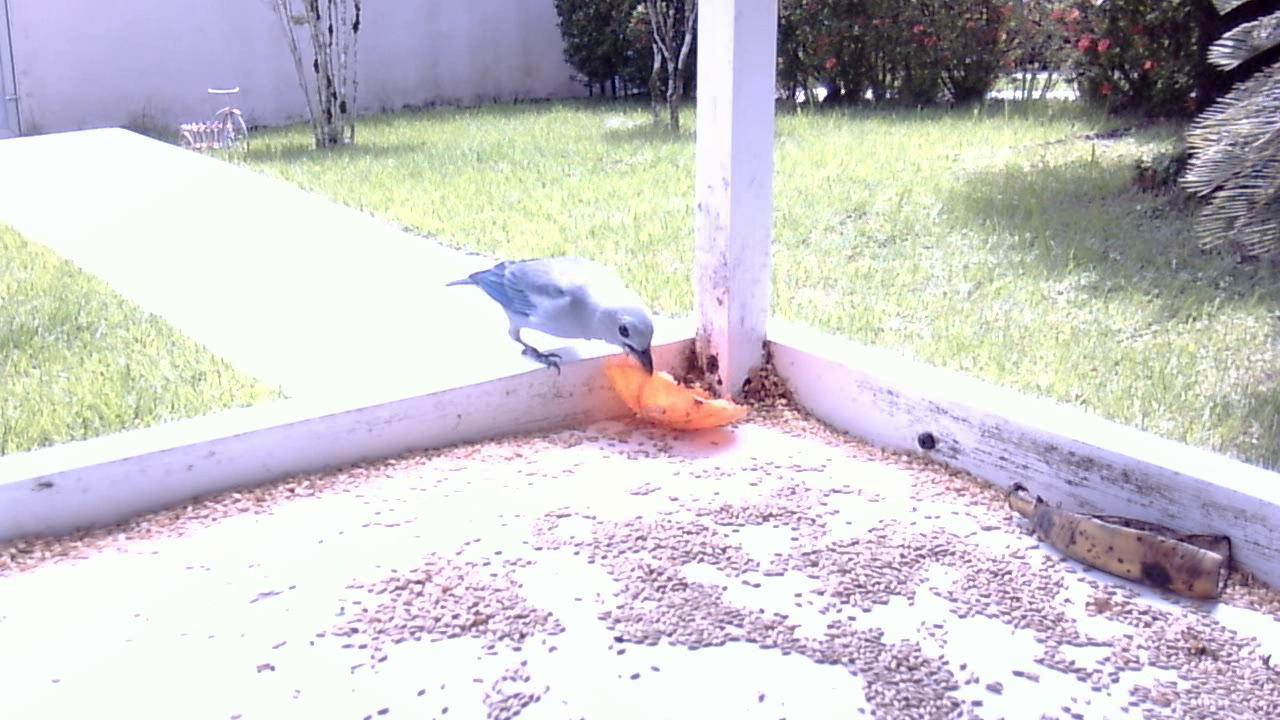sanhaco_da_amazonia: (439, 250, 658, 390)
